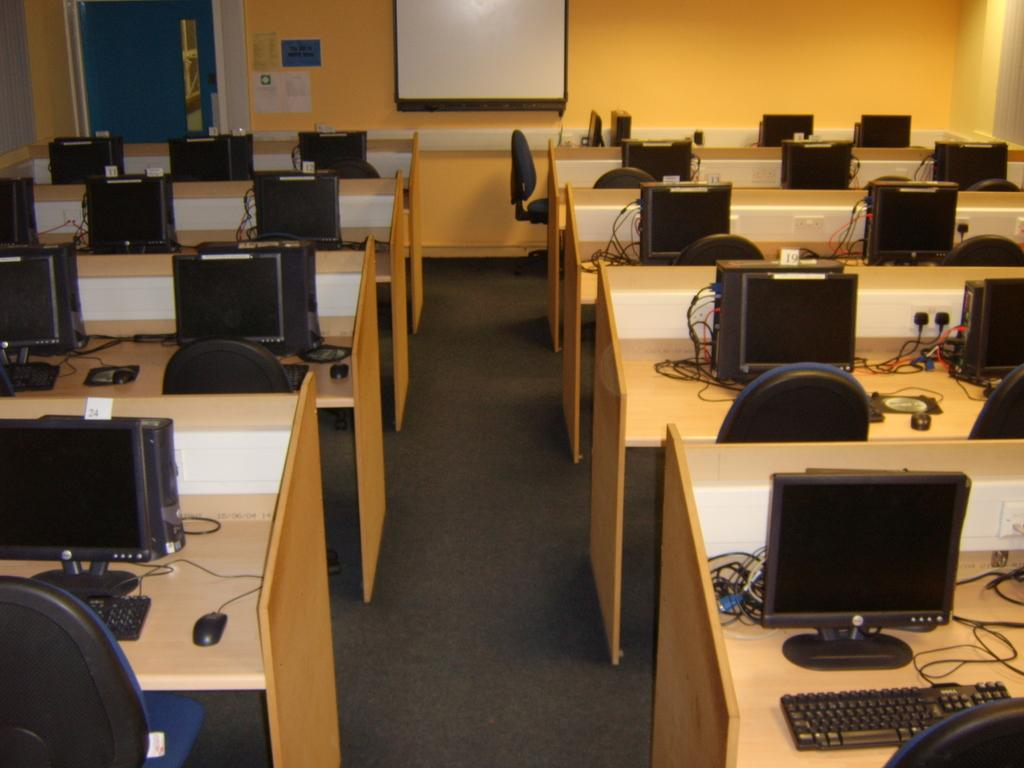Computer-keyboard: (781, 612, 1014, 749), (87, 557, 175, 640), (6, 352, 74, 394), (276, 355, 308, 390), (91, 241, 170, 253), (868, 398, 884, 420)
Computer-monitor: (762, 471, 971, 675), (1, 420, 156, 603), (742, 269, 861, 372), (173, 252, 291, 348), (0, 243, 70, 368), (864, 182, 961, 268), (640, 180, 733, 264), (89, 177, 182, 252), (252, 172, 346, 241), (982, 276, 1023, 376), (49, 136, 124, 184), (936, 140, 1008, 189), (298, 127, 373, 171), (783, 143, 853, 189), (172, 131, 236, 180), (0, 175, 40, 249), (619, 139, 691, 180), (858, 111, 913, 145), (761, 111, 813, 145), (585, 110, 606, 151)
